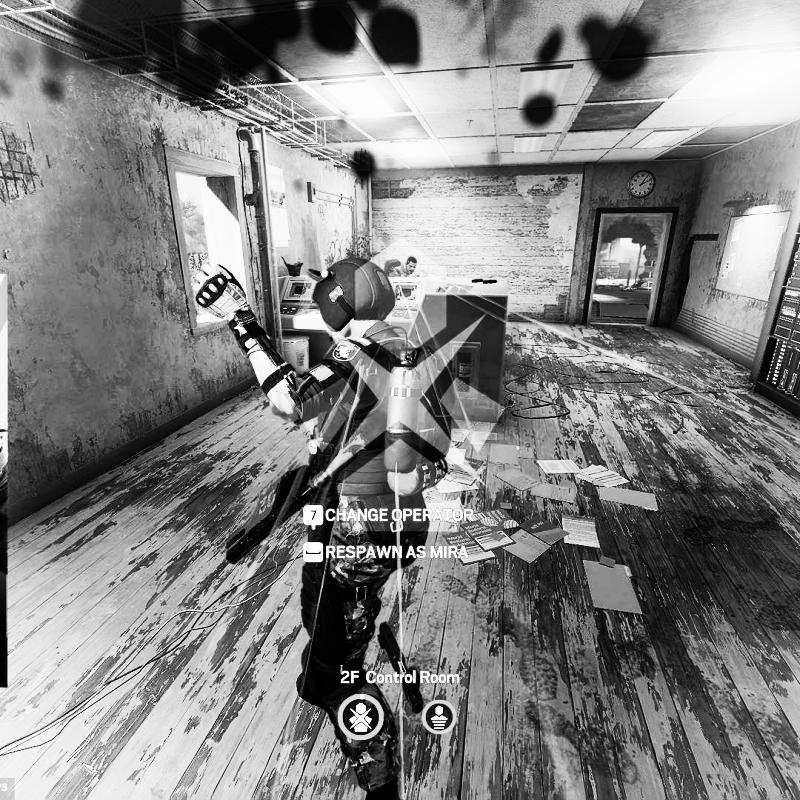Character: (193, 255, 456, 800), (383, 255, 419, 277)
Head: (310, 258, 397, 344), (405, 257, 418, 275)
